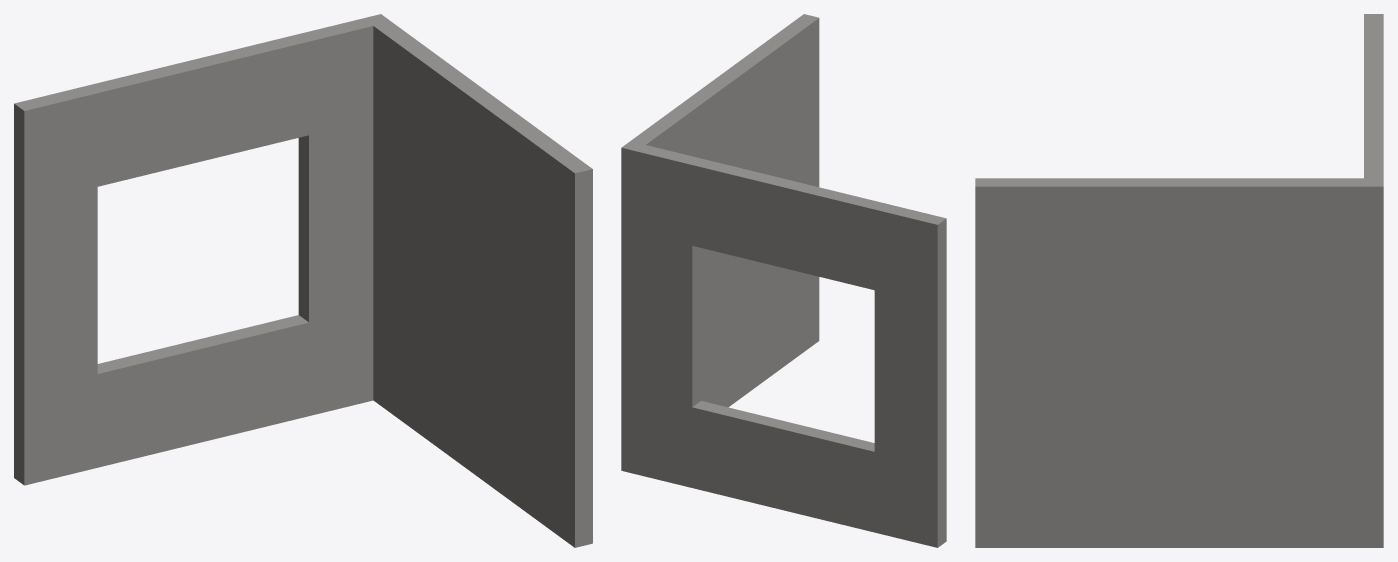
The model's file is Wal_2_Corner_C.fbx.
3 views of the same model, side by side, from view 1: azimuth 30°, elevation 25°; view 2: azimuth 150°, elevation 25°; view 3: azimuth 270°, elevation 25° (orthographic). The views are drawn at different scales.
Visible parts, largest first — view 1: polySurface13; view 2: polySurface13; view 3: polySurface13.
Part boxes in pixels (left/top/right/bottom): polySurface13: left=14, top=14, right=592, bottom=547; polySurface13: left=621, top=14, right=946, bottom=547; polySurface13: left=975, top=14, right=1383, bottom=547.
Bounding box in the file's own units: 4.1 × 4 × 4.1.
1 material, 1 textured.
